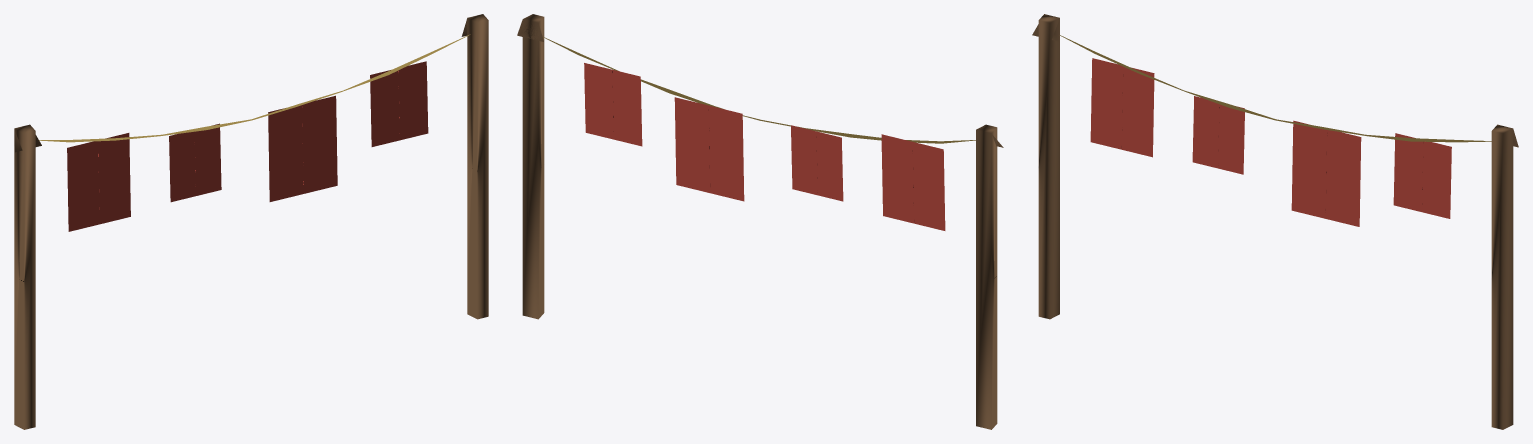
Rendered from laundry_line_lod1.glb.
3 renders of one model, left to right at view 1: azimuth 30°, elevation 25°; view 2: azimuth 150°, elevation 25°; view 3: azimuth 330°, elevation 25°, orthographic.
Bounding box in the file's own units: 4.24 × 2.5 × 0.12.
